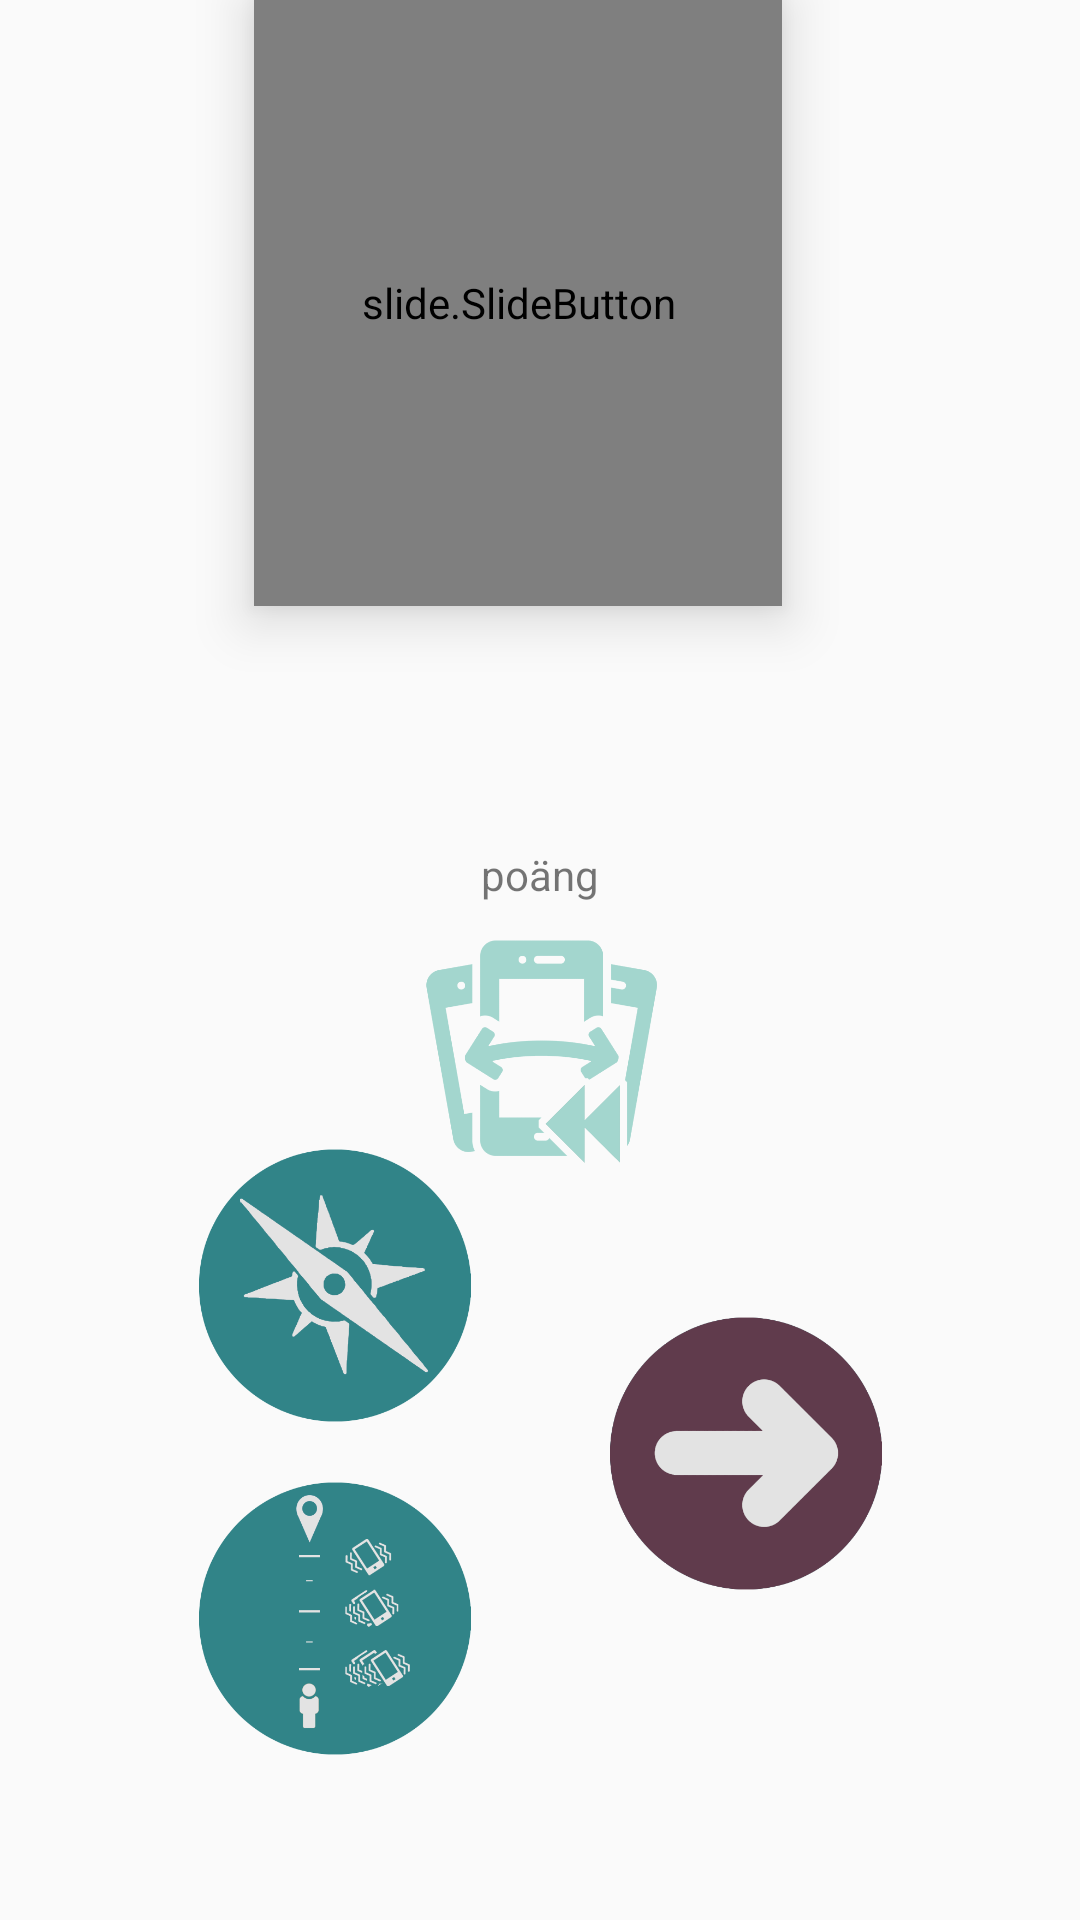

Screen size 1080px×1920px. Icon name, then its box in pixels as [left=x1, top=y1, right=x2, bottom=y2]:
kompass: [left=199, top=1149, right=471, bottom=1422]
next: [left=610, top=1317, right=882, bottom=1590]
shake: [left=426, top=940, right=657, bottom=1163]
vibb: [left=199, top=1482, right=471, bottom=1755]
